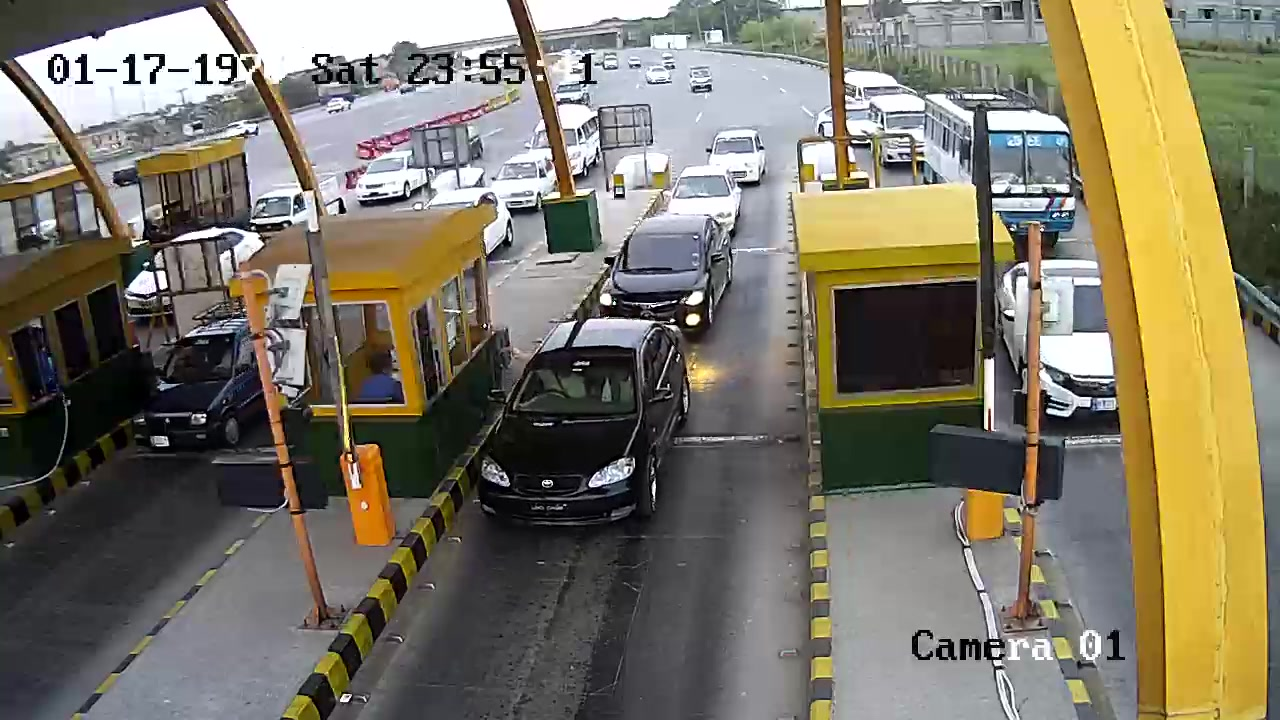F1: (480, 323, 693, 546)
